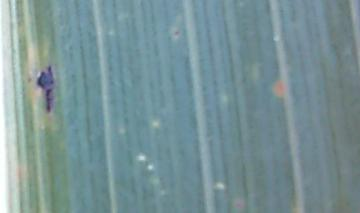tarspot: (34, 64, 56, 114), (172, 29, 180, 37)
